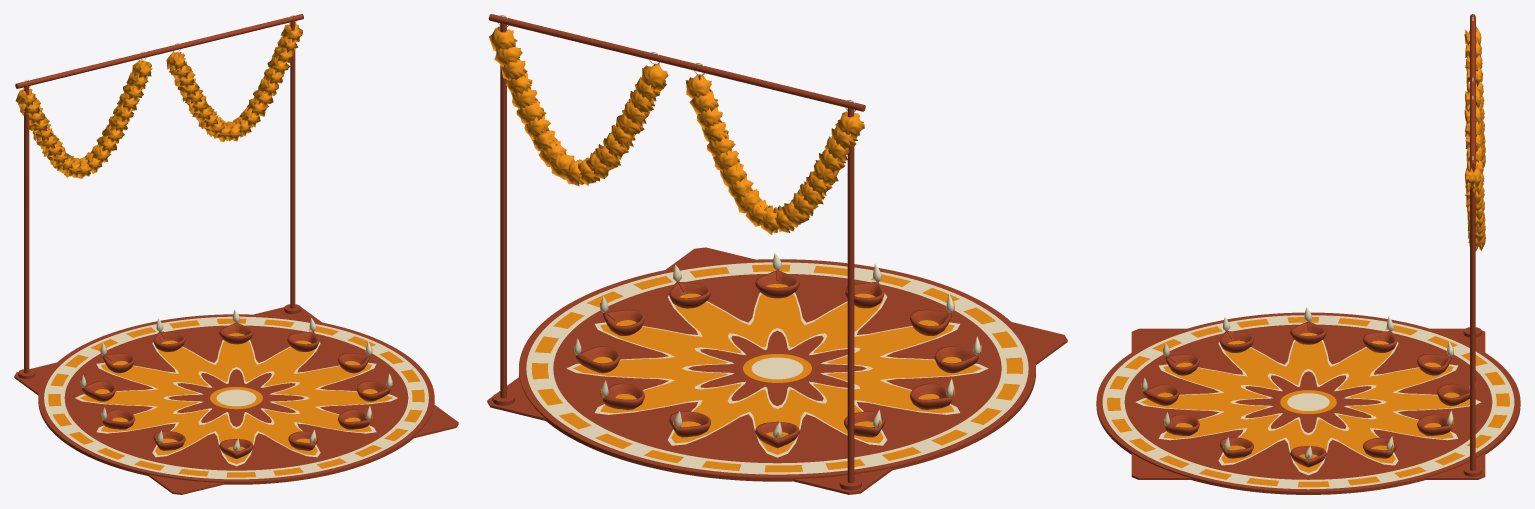
Rendered from edited.glb.
3 views of the same model, side by side, from view 1: azimuth 30°, elevation 25°; view 2: azimuth 150°, elevation 25°; view 3: azimuth 270°, elevation 25° (orthographic). The views are drawn at different scales.
Visible parts, largest first — view 1: DELIVERY_Clay, DELIVERY_Marigold, DELIVERY_Ivory; view 2: DELIVERY_Clay, DELIVERY_Marigold, DELIVERY_Ivory; view 3: DELIVERY_Clay, DELIVERY_Marigold, DELIVERY_Ivory.
Boxes of the visible parts, bbox=[...] form: DELIVERY_Clay: bbox=[14, 14, 458, 494]; DELIVERY_Marigold: bbox=[15, 23, 424, 477]; DELIVERY_Ivory: bbox=[23, 14, 428, 479]; DELIVERY_Clay: bbox=[487, 14, 1067, 494]; DELIVERY_Marigold: bbox=[489, 26, 1023, 472]; DELIVERY_Ivory: bbox=[498, 15, 1028, 474]; DELIVERY_Clay: bbox=[1096, 14, 1520, 494]; DELIVERY_Marigold: bbox=[1107, 26, 1509, 487]; DELIVERY_Ivory: bbox=[1102, 17, 1514, 489].
Bounding box in the file's own units: 2.4 × 1.99 × 2.4.
